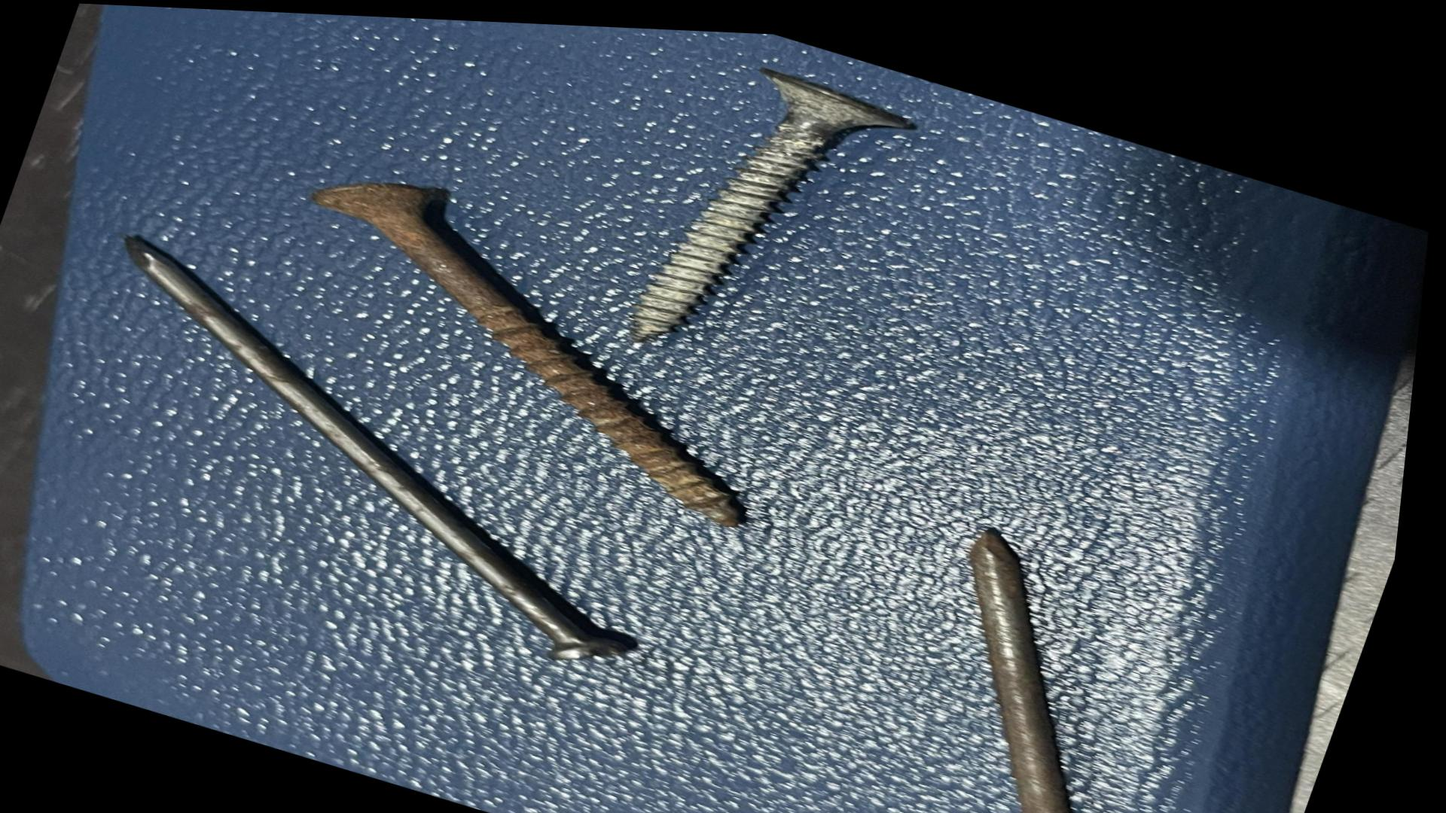nail: (16, 221, 764, 694), (821, 489, 1290, 813)
screw: (236, 144, 857, 540), (605, 33, 935, 394)
